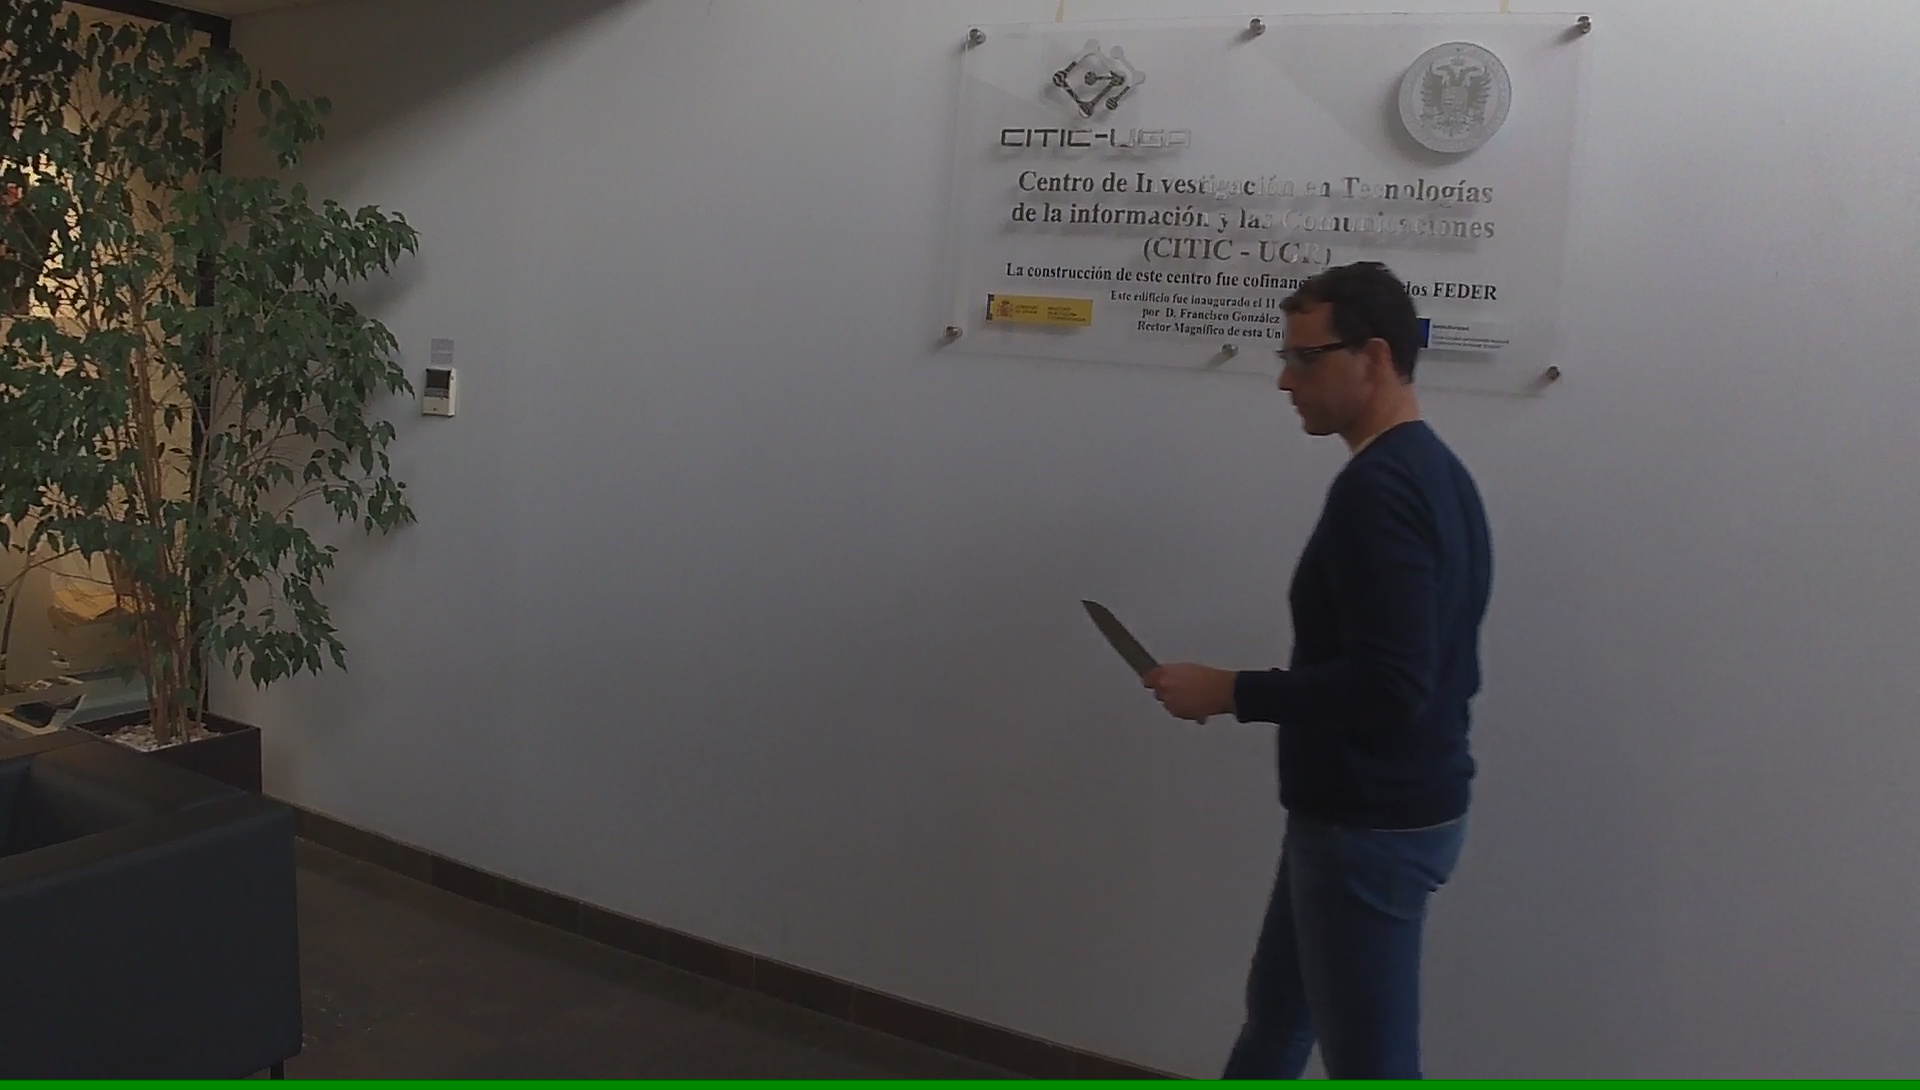knife: (1075, 589, 1212, 729)
